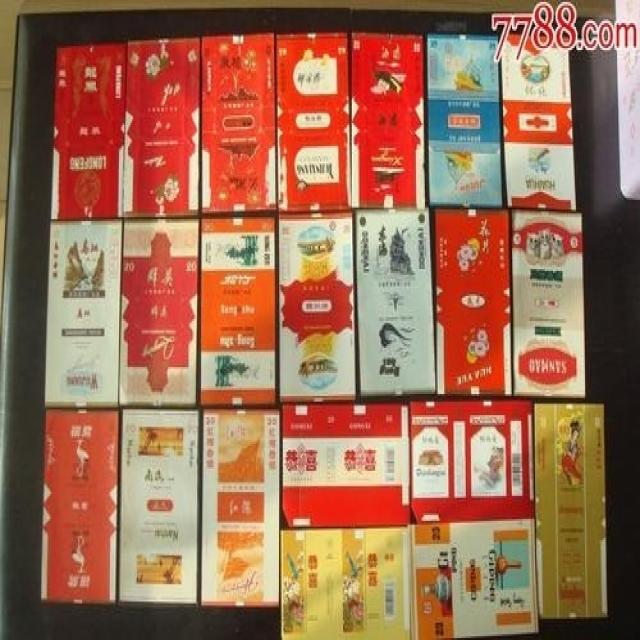box: (282, 404, 411, 530), (118, 407, 200, 603), (535, 404, 609, 621), (201, 409, 280, 607), (410, 400, 535, 525), (412, 517, 539, 640), (355, 209, 436, 398), (41, 409, 119, 603), (119, 215, 198, 406), (433, 209, 513, 396), (279, 213, 357, 402), (45, 219, 123, 407), (280, 529, 412, 640), (511, 211, 588, 398), (200, 217, 276, 406), (500, 33, 579, 211), (123, 37, 200, 217), (276, 33, 352, 215), (201, 35, 278, 213), (50, 42, 127, 219), (351, 31, 426, 209), (428, 33, 503, 206)
